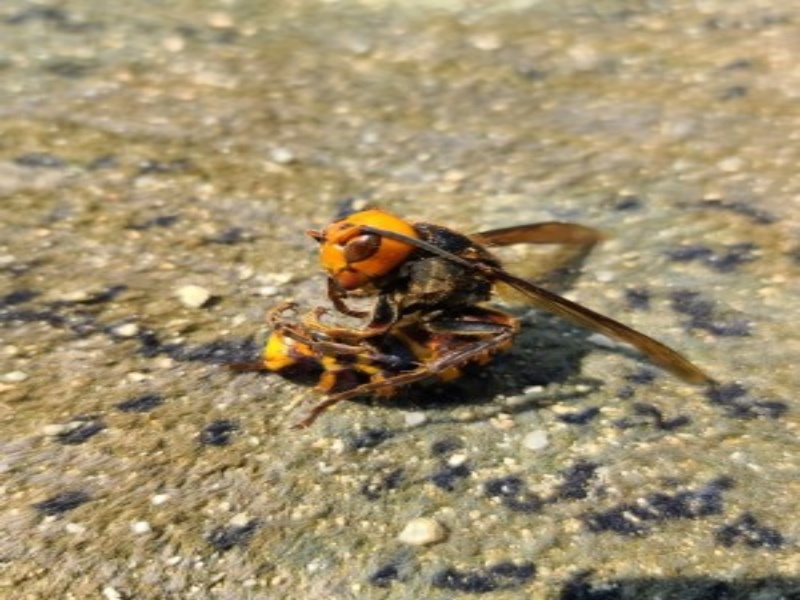asian_giant_hornet: (256, 204, 584, 398)
